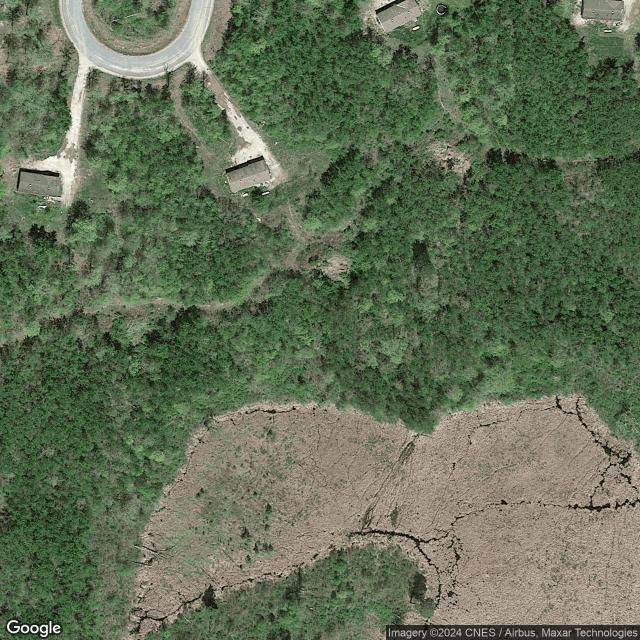Propane: (410, 24, 422, 32), (260, 189, 271, 197), (37, 204, 48, 209), (603, 29, 612, 33)
